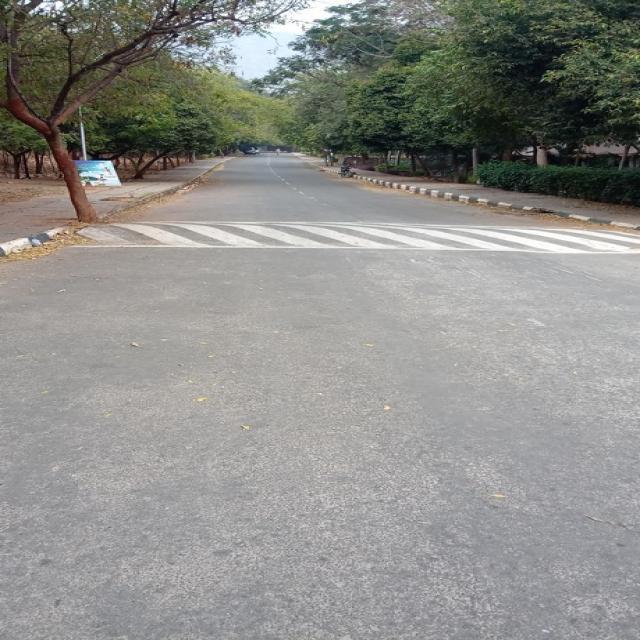speedbreaker: (37, 218, 640, 249)
